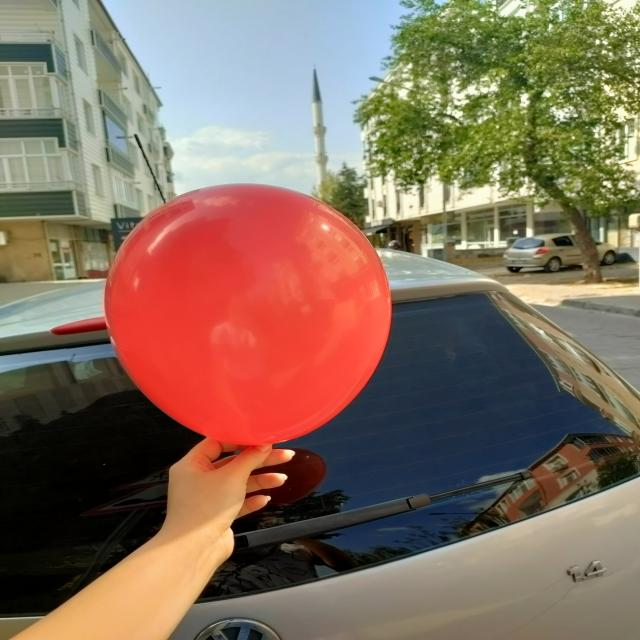red: (108, 185, 394, 448)
